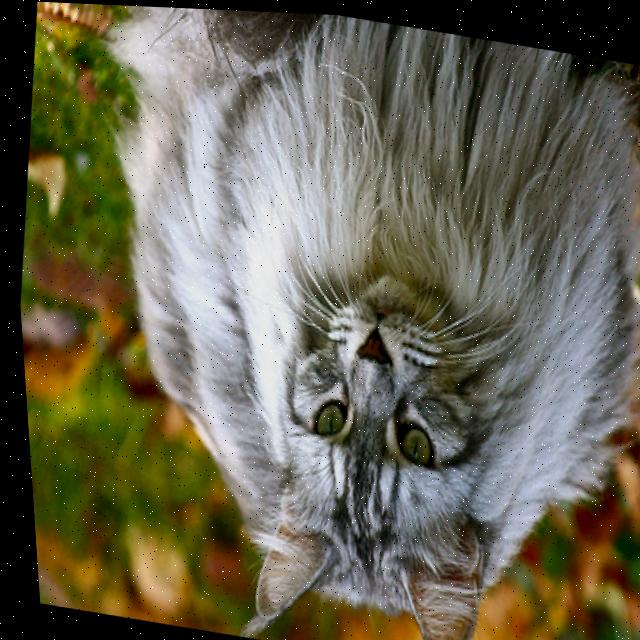Maine Coon: (34, 1, 640, 640)
